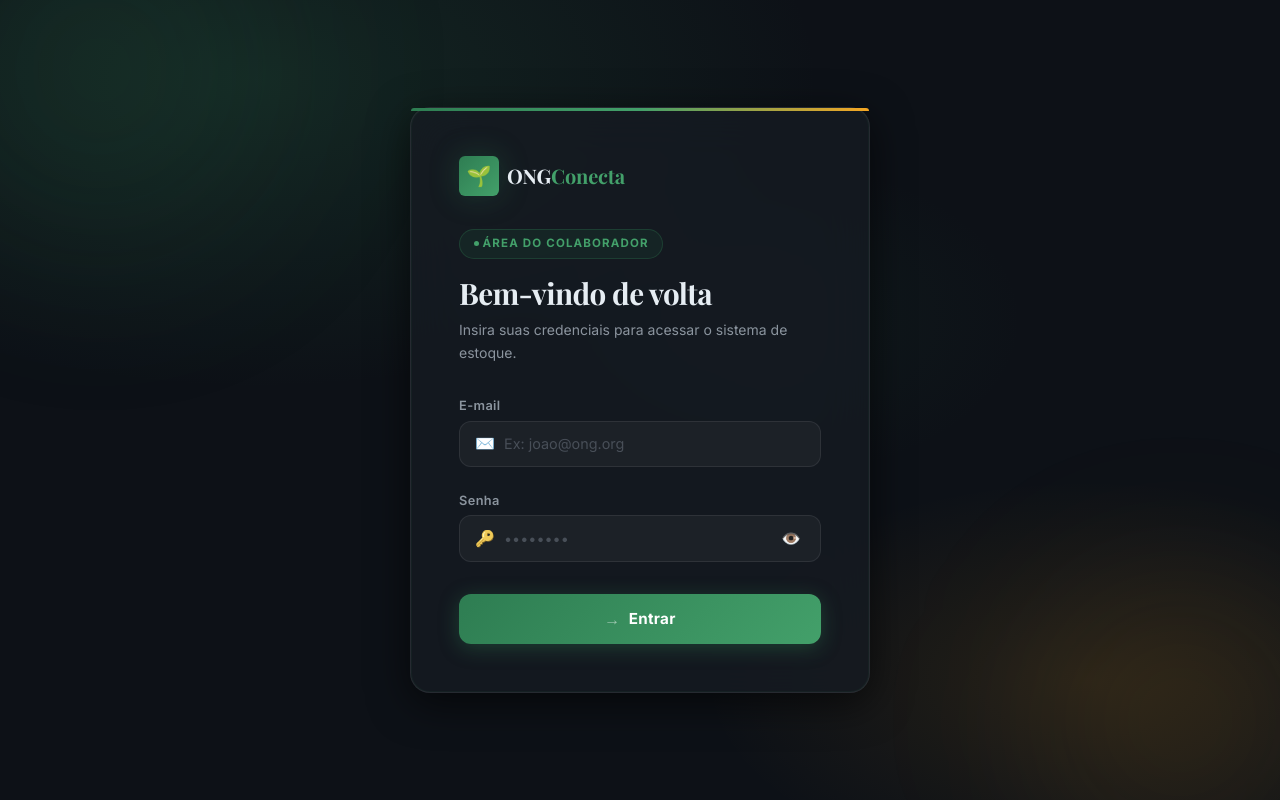
Test: App — fluxo de navegação › navega para a página de Doações a partir do StockOverview
This screenshot has width=1280, height=800.
Type "admin@ong.org" into the field labelled "E-mail" at (640, 444), box x1=459 y1=421 x2=821 y2=467
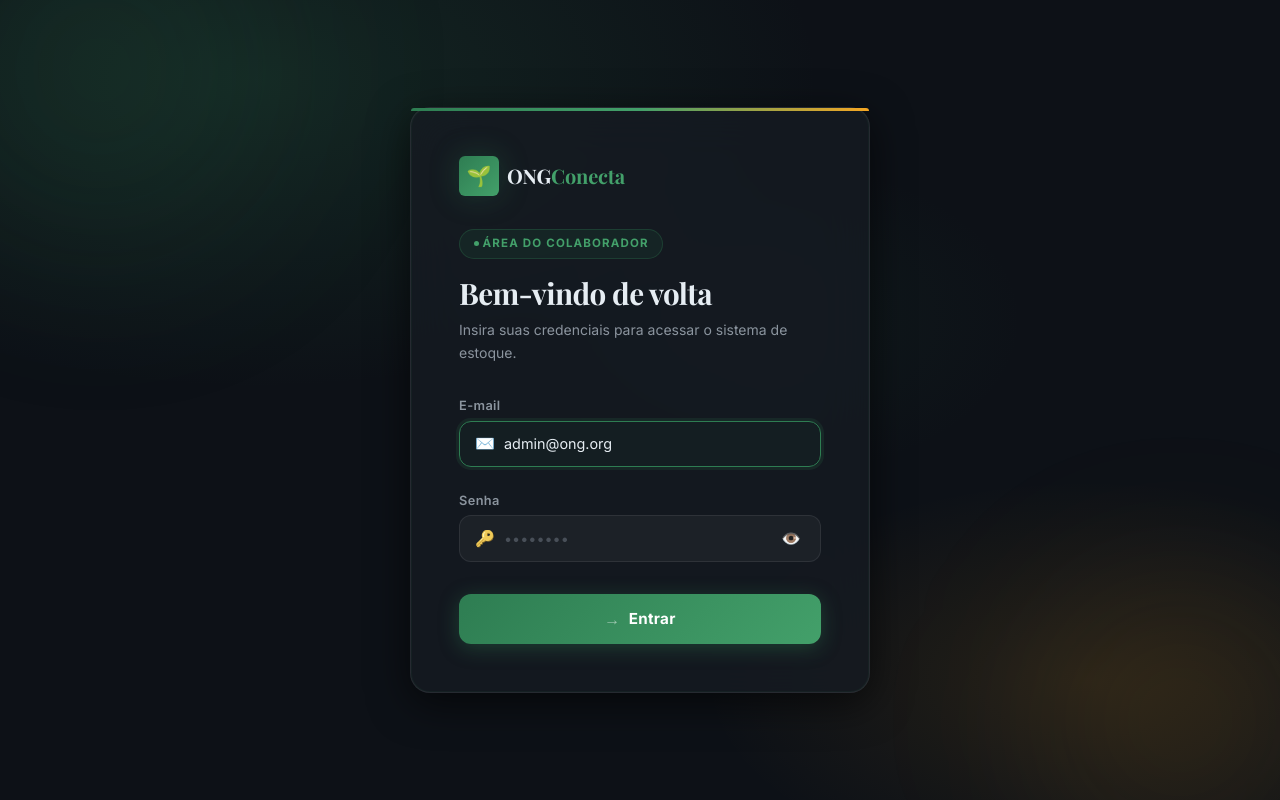
Type "senha123" into the password field with id "login-password" at (640, 538), box x1=459 y1=515 x2=821 y2=562
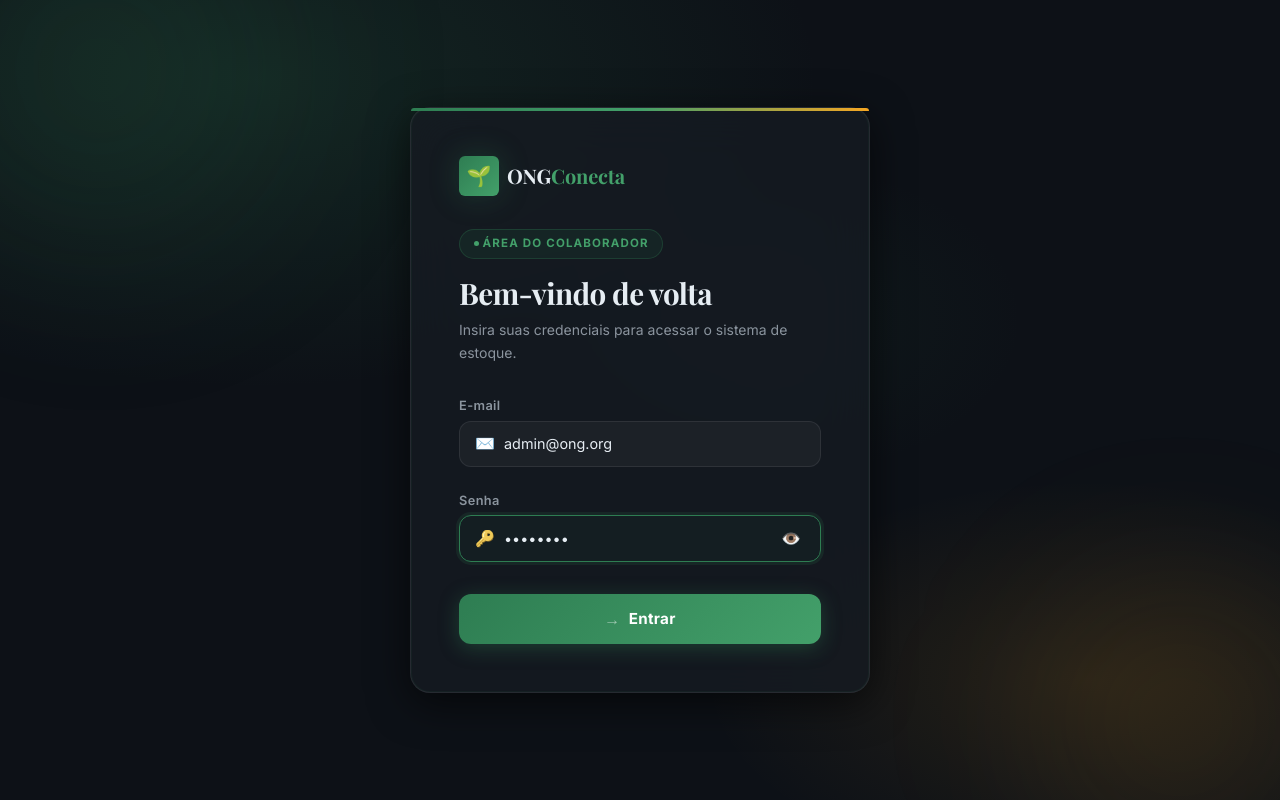
Click the button "→ Entrar" at (640, 619), box x1=459 y1=594 x2=821 y2=644
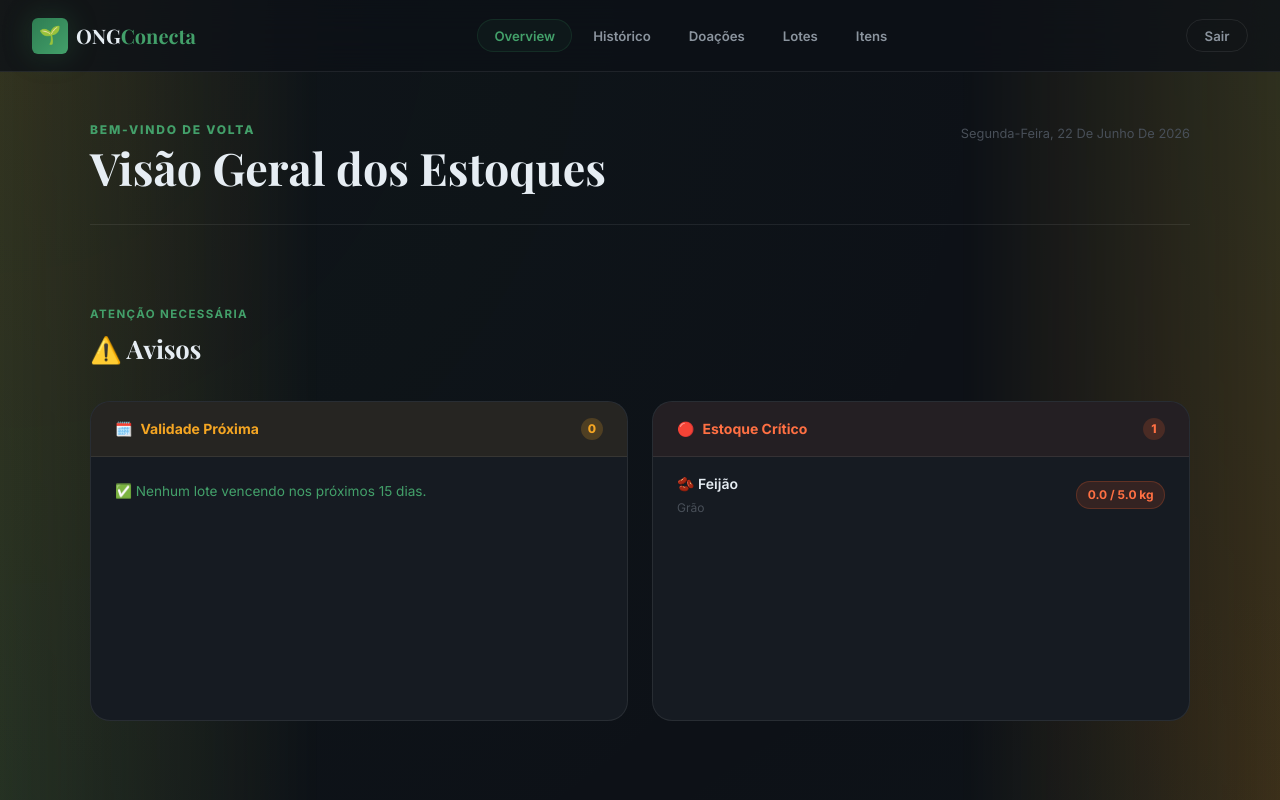
Expected: the button "Doações" is shown
Click the button "Doações" at (717, 36), box x1=672 y1=19 x2=762 y2=52
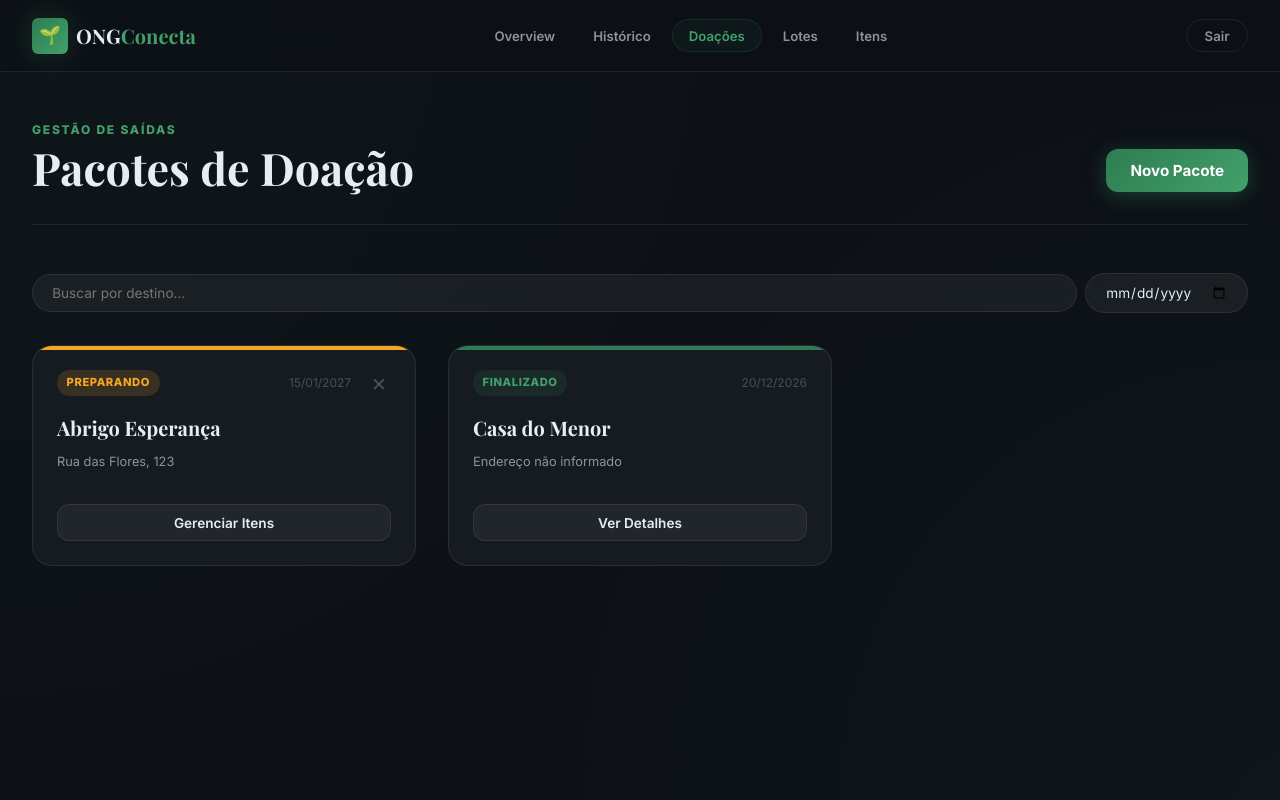
Expected: the heading "Pacotes de Doação" is shown, x1=32 y1=143 x2=414 y2=192
